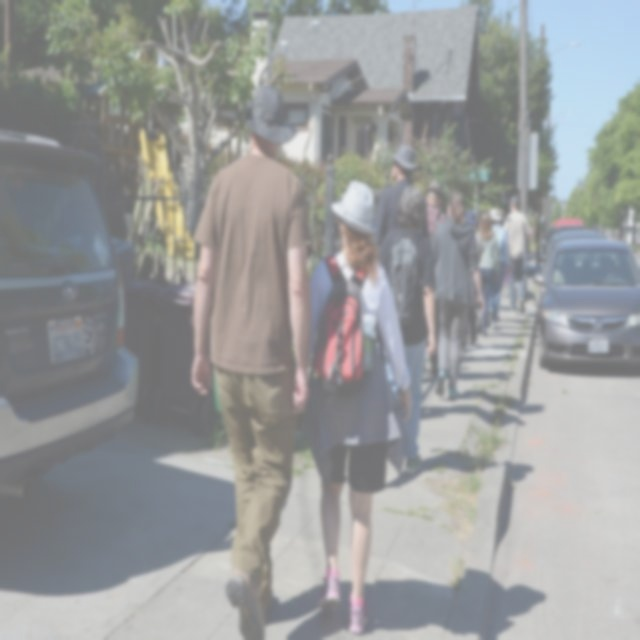pessoa: (188, 80, 315, 640), (306, 178, 412, 635), (376, 184, 436, 474), (432, 189, 486, 403), (370, 141, 422, 249), (503, 196, 531, 316), (474, 209, 500, 337), (460, 210, 479, 352), (490, 208, 510, 330), (490, 207, 510, 324), (424, 180, 447, 244)
